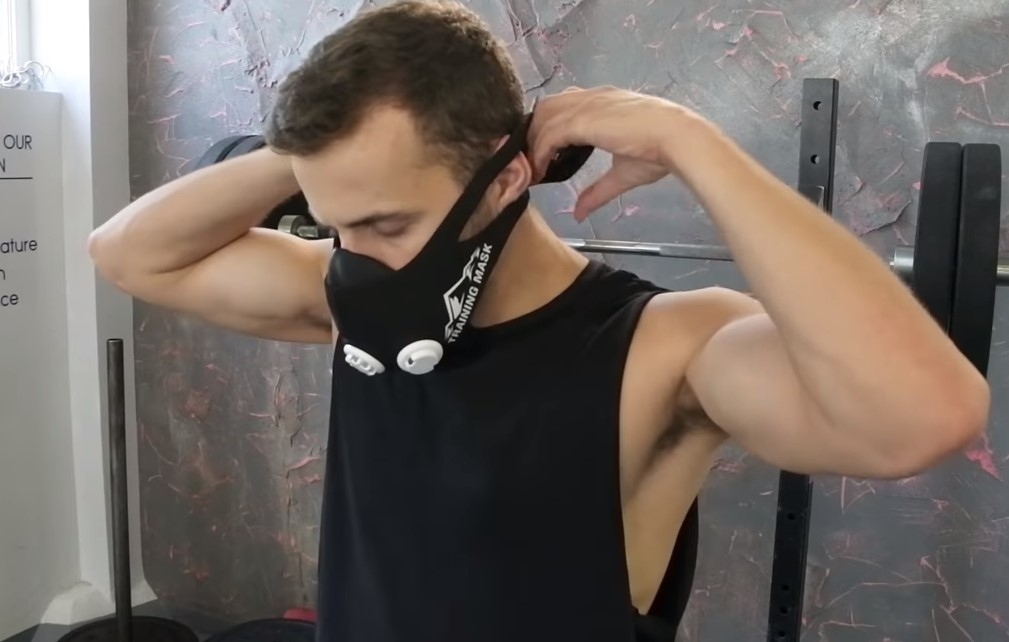face_with_mask: (268, 2, 536, 377)
